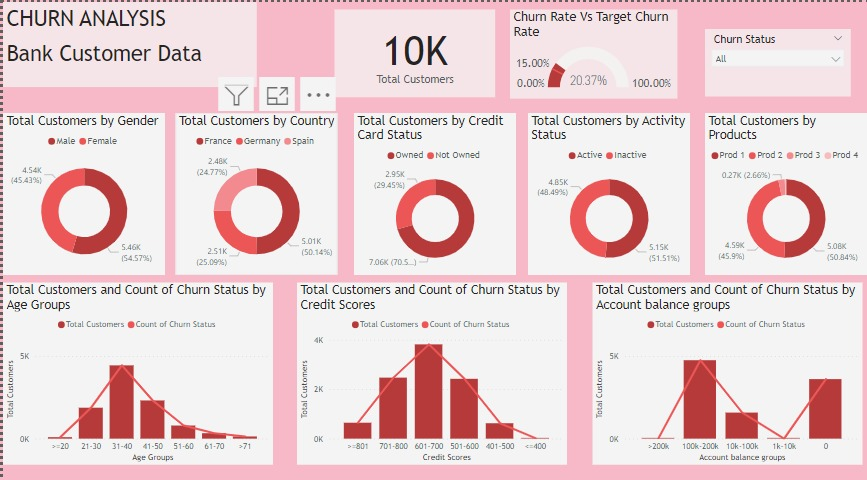

What the dashboard file says about the page in this screenshot:
{"tool":"powerbi","page":{"name":"Page 1","canvas":[1280,720],"ordinal":0},"visuals":[{"type":"card","fields":{"Values":["Customer Data.No. of Customers"]},"box":[490,12,238,130],"z":0},{"type":"donutChart","fields":{"Category":["Customer Data.Gender"],"Y":["Customer Data.Total Customers"]},"box":[0,164,240,240],"z":1001},{"type":"donutChart","fields":{"Y":["Customer Data.Total Customers"],"Category":["Customer Data.Country"]},"box":[256,164,240,240],"z":1002},{"type":"donutChart","fields":{"Category":["Customer Data.Credit Card Status"],"Y":["Customer Data.Total Customers"]},"box":[520,164,240,240],"z":1003},{"type":"donutChart","fields":{"Category":["Customer Data.Activity Status"],"Y":["Customer Data.Total Customers"]},"box":[778,164,240,240],"z":1004},{"type":"donutChart","fields":{"Y":["Customer Data.Total Customers"],"Category":["Customer Data.Products"]},"box":[1040,164,240,240],"z":1005},{"type":"lineClusteredColumnComboChart","fields":{"Category":["Age groups.Age Groups"],"Y":["Customer Data.Total Customers"],"Y2":["CountNonNull(Customer Data.Churn Status)"]},"box":[0,415.8,400,270],"z":1006},{"type":"lineClusteredColumnComboChart","fields":{"Y":["Customer Data.Total Customers"],"Y2":["CountNonNull(Customer Data.Churn Status)"],"Category":["Credit Score Groups.Credit Scores"]},"box":[436.5,415.8,400,270],"z":1007},{"type":"lineClusteredColumnComboChart","fields":{"Y":["Customer Data.Total Customers"],"Y2":["CountNonNull(Customer Data.Churn Status)"],"Category":["Acct balance groups.Account balance groups"]},"box":[873.1,415.8,400,270],"z":1008},{"type":"slicer","fields":{"Values":["Customer Data.Churn Status"]},"box":[1040,40,216,100],"z":1009},{"type":"gauge","title":"Churn Rate Vs Target Churn Rate","fields":{"Y":["Customer Data.Churn Rate"],"MinValue":["Min(Customer Data.Min Churn rate)"],"MaxValue":["Max(Customer Data.Max Churn Rate)"],"TargetValue":["Min(Customer Data.Target Churn rate)"]},"box":[750,12,248,132],"z":1010},{"type":"textbox","box":[0,0,376,126],"z":1011}]}

Visuals, with their boxes in screenshot pixels (x1, y1, x2, y2), scaled from the page's 1280x720 canvas onto the 867x480 screenshot:
card - Customer Data.No. of Customers: box(332, 8, 493, 95)
donutChart - Customer Data.Gender x Customer Data.Total Customers: box(0, 109, 163, 269)
donutChart - Customer Data.Total Customers x Customer Data.Country: box(173, 109, 336, 269)
donutChart - Customer Data.Credit Card Status x Customer Data.Total Customers: box(352, 109, 515, 269)
donutChart - Customer Data.Activity Status x Customer Data.Total Customers: box(527, 109, 690, 269)
donutChart - Customer Data.Total Customers x Customer Data.Products: box(704, 109, 866, 269)
lineClusteredColumnComboChart - Age groups.Age Groups x Customer Data.Total Customers: box(0, 277, 271, 457)
lineClusteredColumnComboChart - Customer Data.Total Customers x CountNonNull(Customer Data.Churn Status): box(296, 277, 567, 457)
lineClusteredColumnComboChart - Customer Data.Total Customers x CountNonNull(Customer Data.Churn Status): box(591, 277, 862, 457)
slicer - Customer Data.Churn Status: box(704, 27, 851, 93)
"Churn Rate Vs Target Churn Rate" gauge: box(508, 8, 676, 96)
textbox: box(0, 0, 255, 84)
